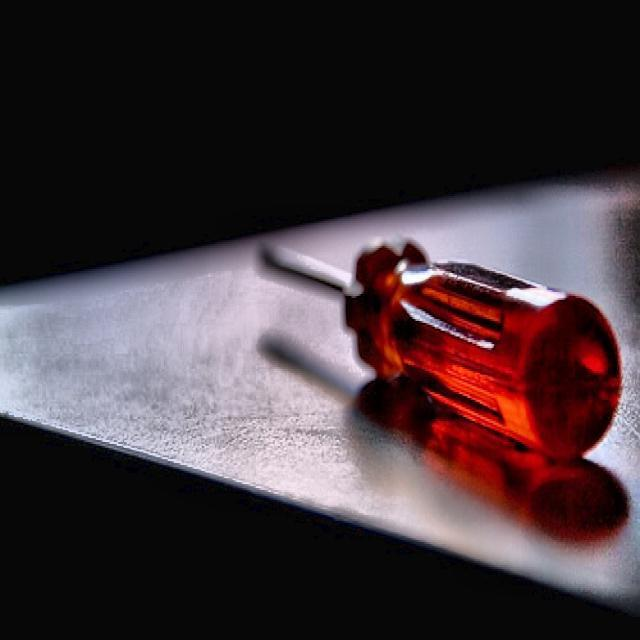screwdriver: (259, 242, 622, 459)
